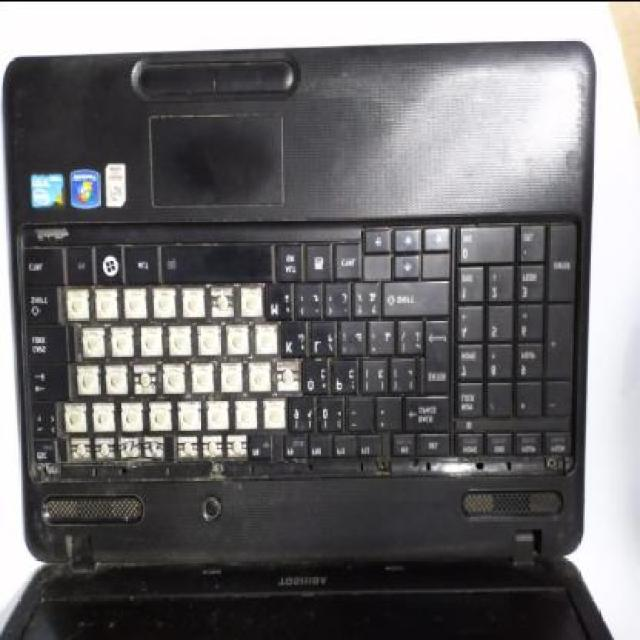Keyboard problems: (56, 279, 307, 467)
